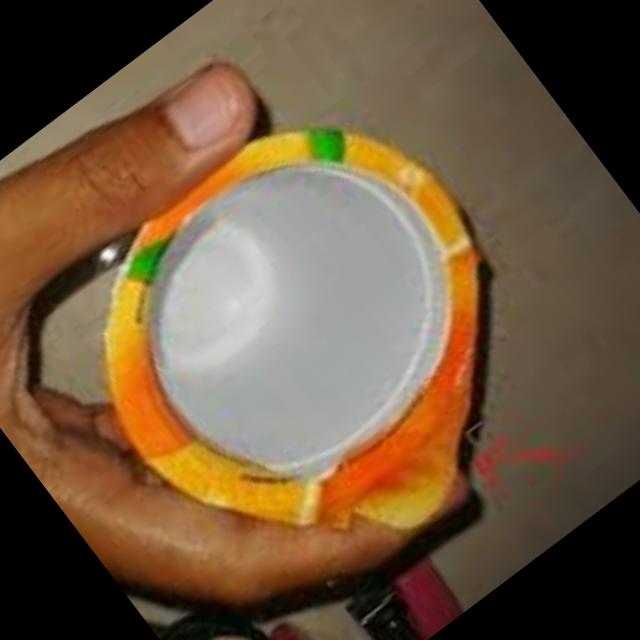GelasPlastik: (21, 60, 605, 640)
